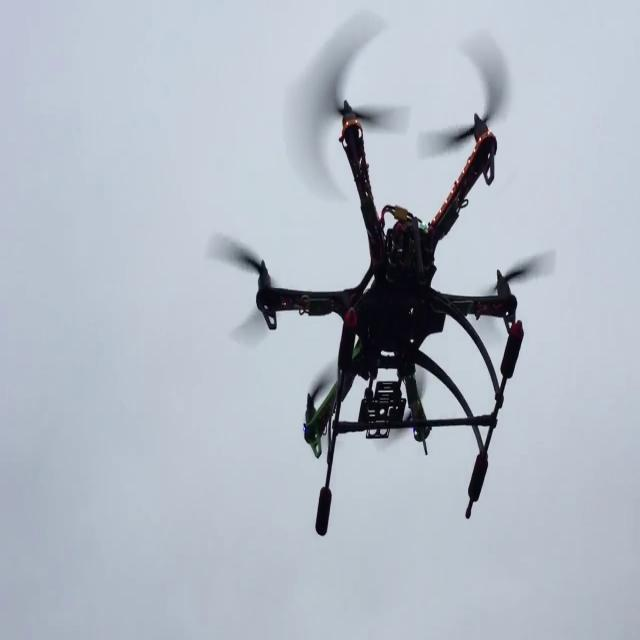drone: (199, 0, 562, 567)
